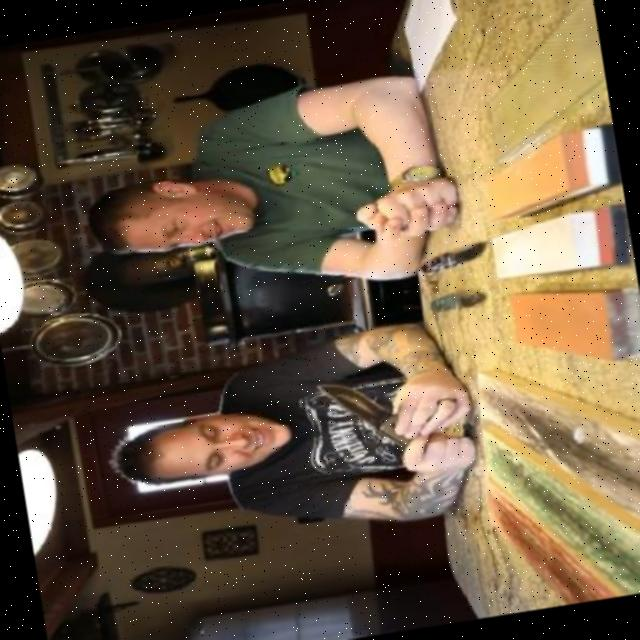Knife: (319, 360, 431, 466), (411, 230, 496, 280), (423, 280, 481, 316)
